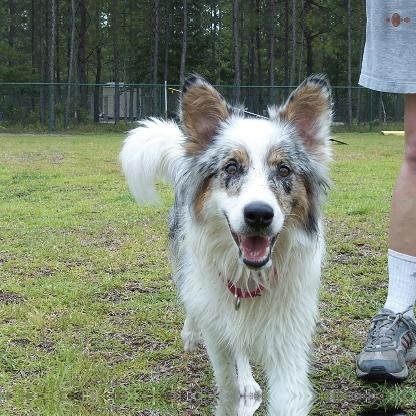Dog: (121, 70, 339, 394)
